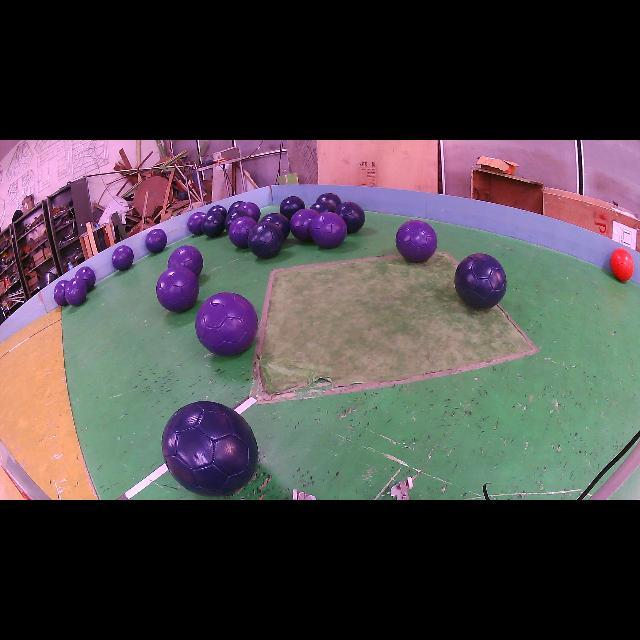B: (161, 401, 259, 496), (454, 254, 506, 309), (248, 221, 284, 259), (335, 201, 365, 233), (260, 212, 290, 239), (201, 212, 225, 238), (280, 196, 305, 220), (225, 210, 249, 231), (316, 192, 341, 209), (310, 201, 335, 213), (208, 205, 228, 218), (228, 201, 244, 214)
P: (195, 292, 258, 356), (156, 266, 199, 312), (395, 220, 438, 262), (310, 212, 348, 248), (168, 245, 202, 276), (229, 216, 258, 249), (290, 209, 319, 241), (65, 278, 88, 306), (112, 245, 134, 270), (145, 229, 168, 252), (75, 266, 96, 291), (238, 202, 261, 221), (188, 211, 206, 235), (54, 280, 69, 306)
R: (611, 248, 634, 281)
